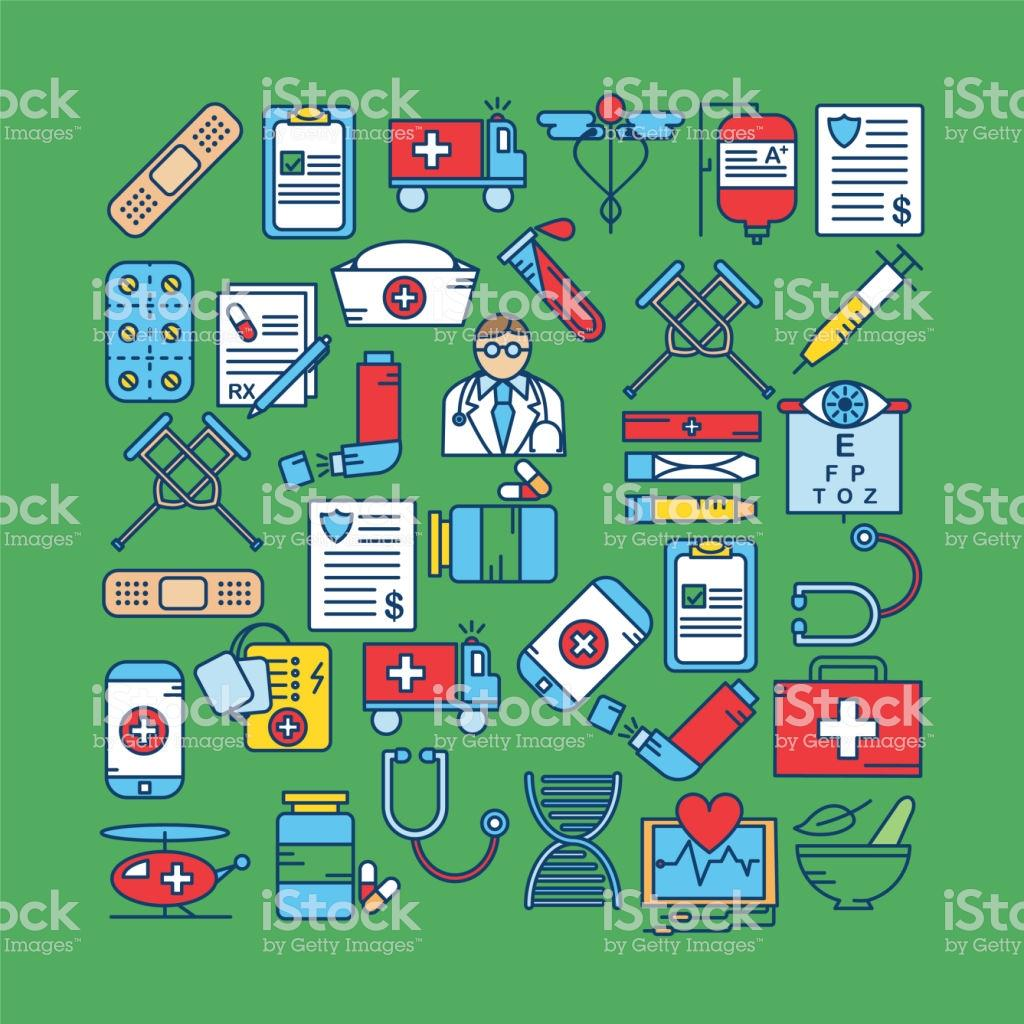bandage: (111, 100, 244, 239), (100, 558, 272, 629)
